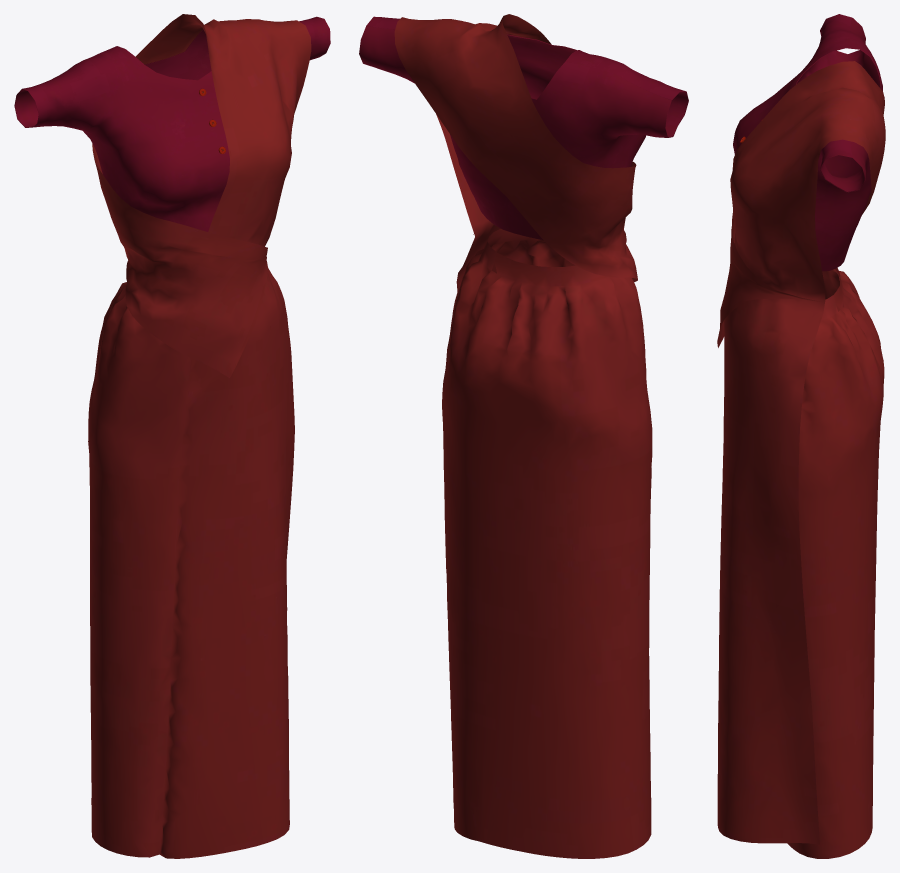
3 renders of one model, left to right at view 1: azimuth 30°, elevation 25°; view 2: azimuth 150°, elevation 25°; view 3: azimuth 270°, elevation 25°, orthographic. The views are drawn at different scales.
Parts seen in each view (by area): view 1: shari_fainal1:Pattern2D_92580, blaus_kapor; view 2: shari_fainal1:Pattern2D_92580, blaus_kapor; view 3: shari_fainal1:Pattern2D_92580, blaus_kapor.
Part boxes in pixels (x1=…): shari_fainal1:Pattern2D_92580: x1=88, y1=14, x2=311, y2=858; blaus_kapor: x1=14, y1=16, x2=330, y2=231; shari_fainal1:Pattern2D_92580: x1=394, y1=14, x2=652, y2=858; blaus_kapor: x1=359, y1=16, x2=688, y2=239; shari_fainal1:Pattern2D_92580: x1=717, y1=61, x2=885, y2=858; blaus_kapor: x1=733, y1=14, x2=882, y2=271.
Bounding box in the file's own units: 33.16 × 85.18 × 16.8.
4 materials, 3 textured.
